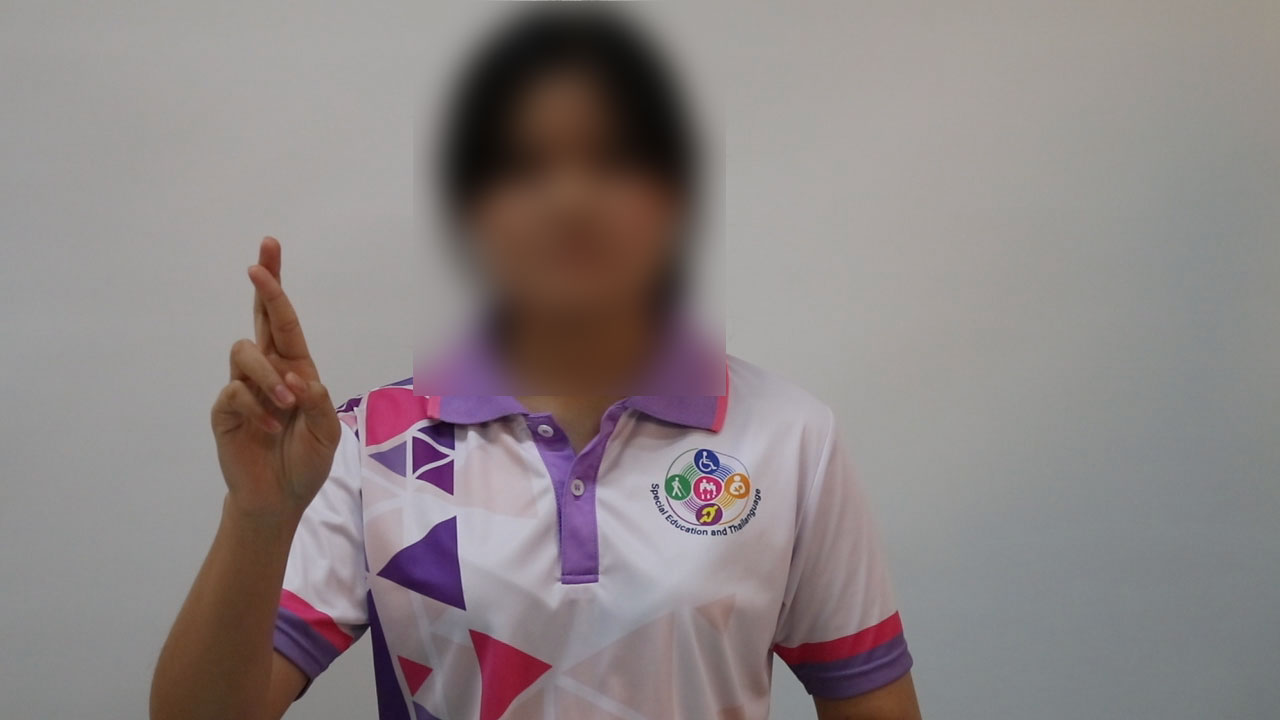rao: (184, 229, 345, 525)
